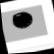correct: (9, 7, 39, 32)
